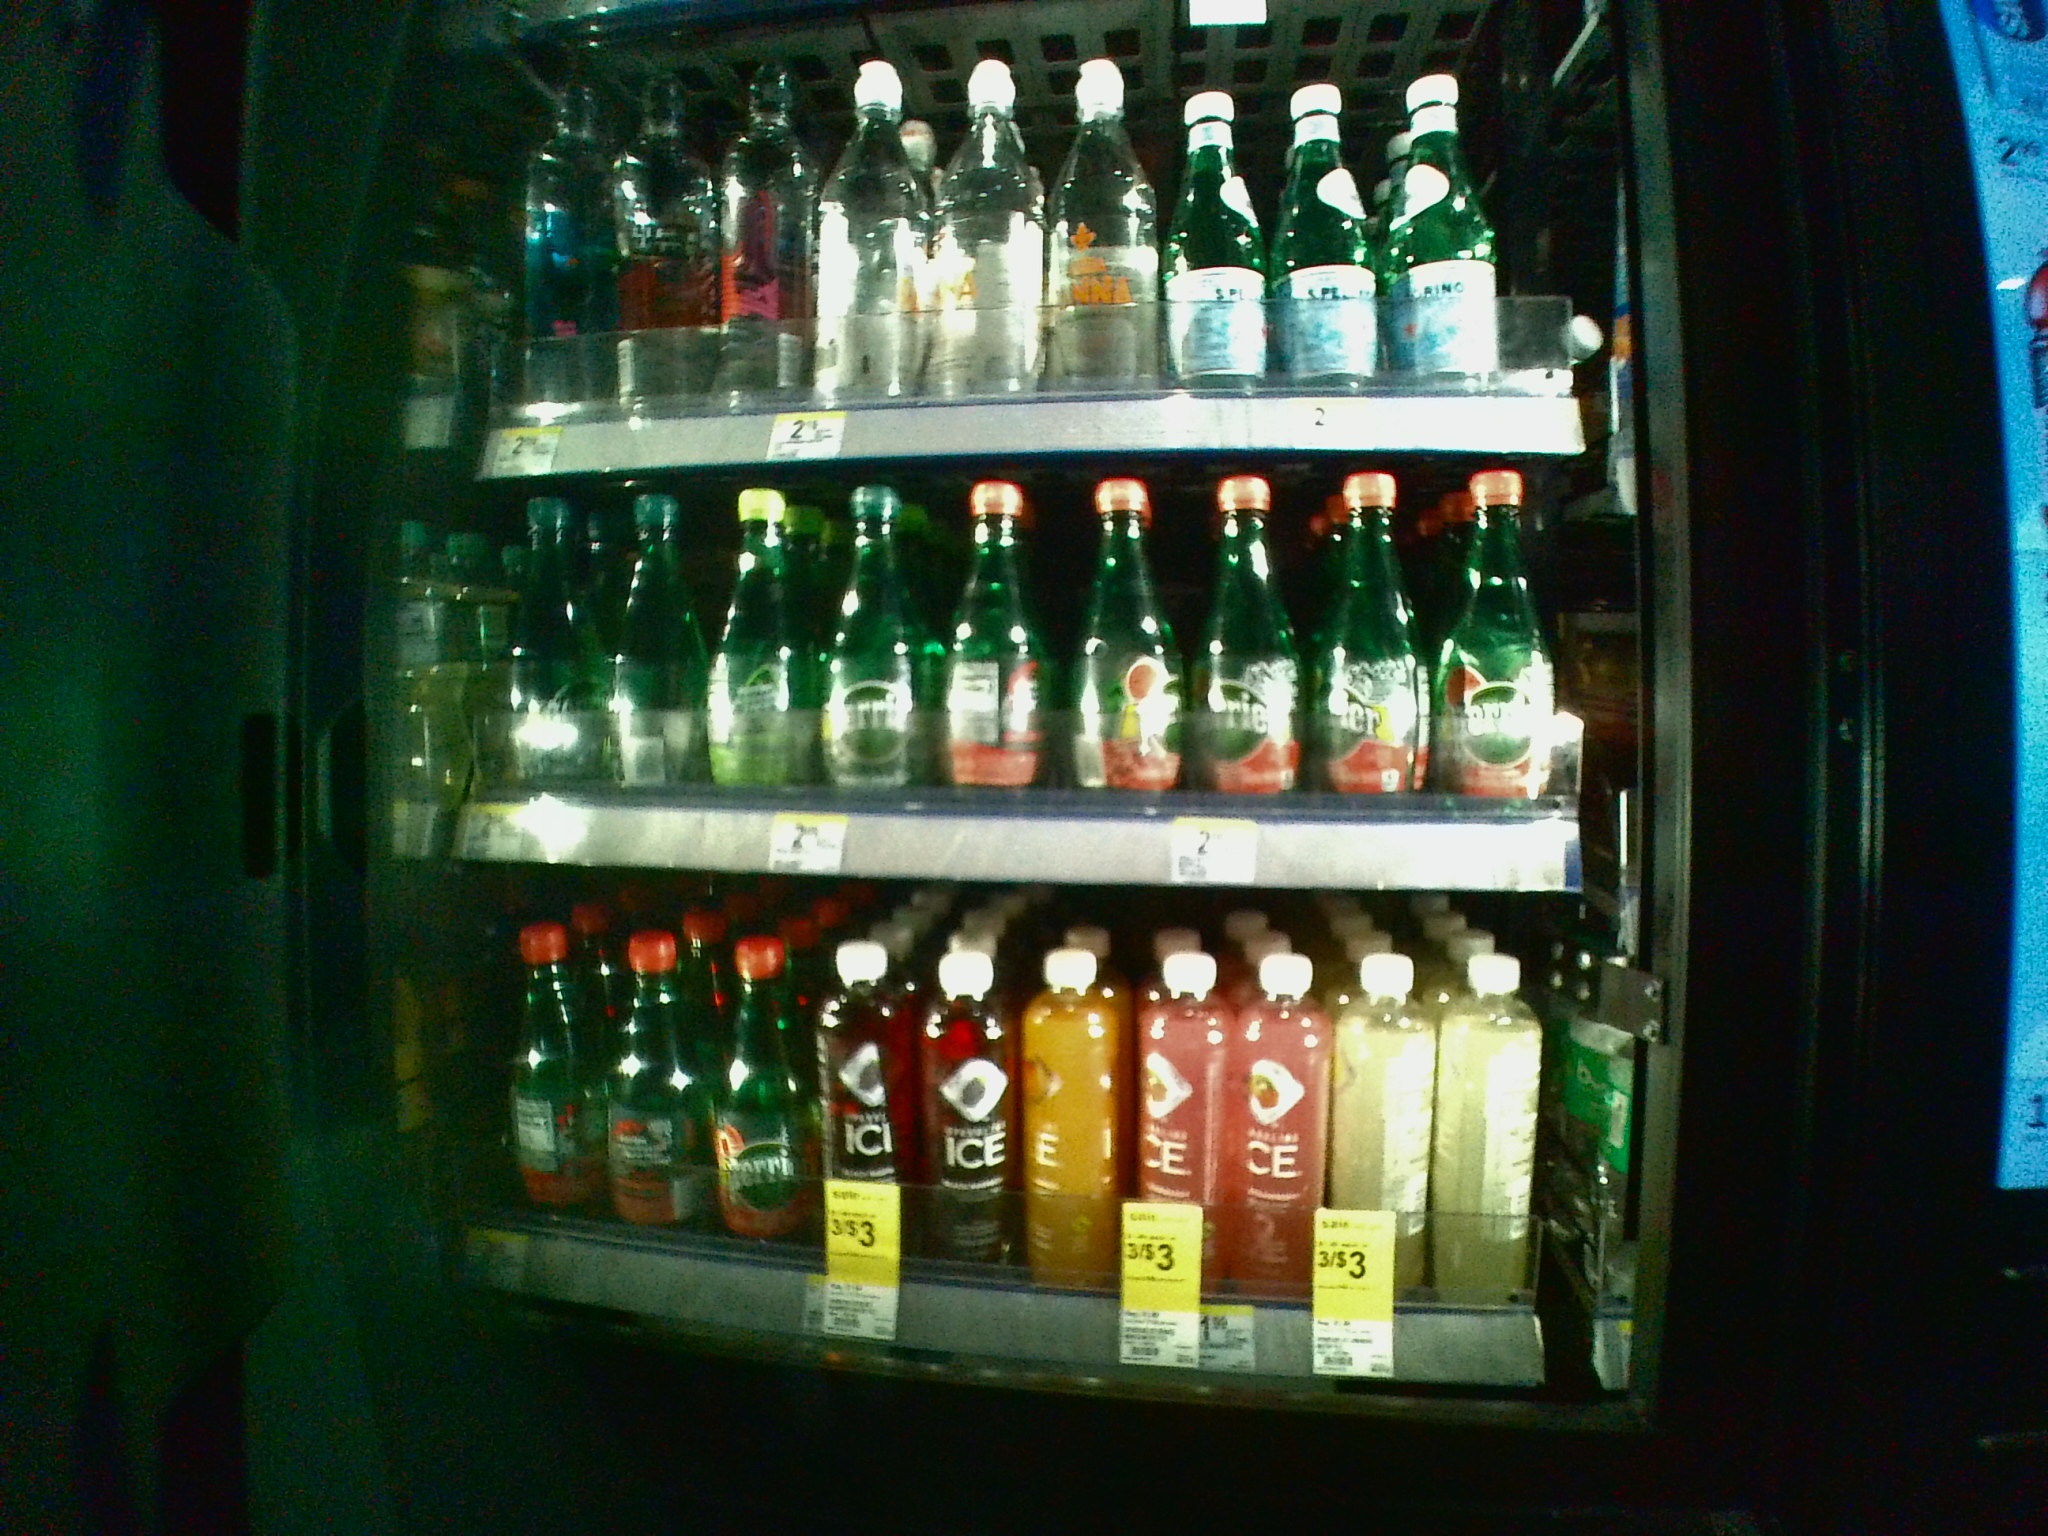Shelf: (419, 895, 1617, 1392), (416, 449, 1606, 892)
